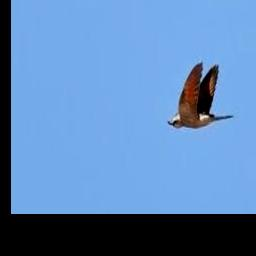Cuckoo: (168, 64, 236, 130)
